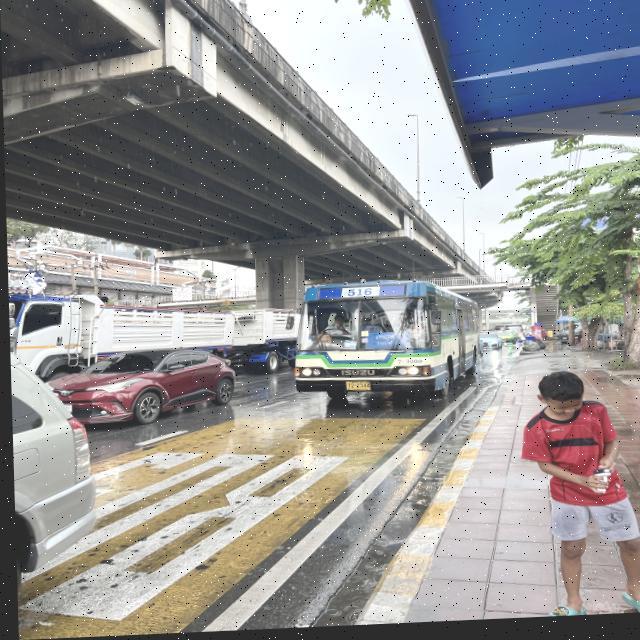BMTA-bus: (289, 280, 484, 412)
Bus-Line-Number: (340, 290, 376, 301)
Destination-Sign-Normal: (364, 335, 410, 353)
